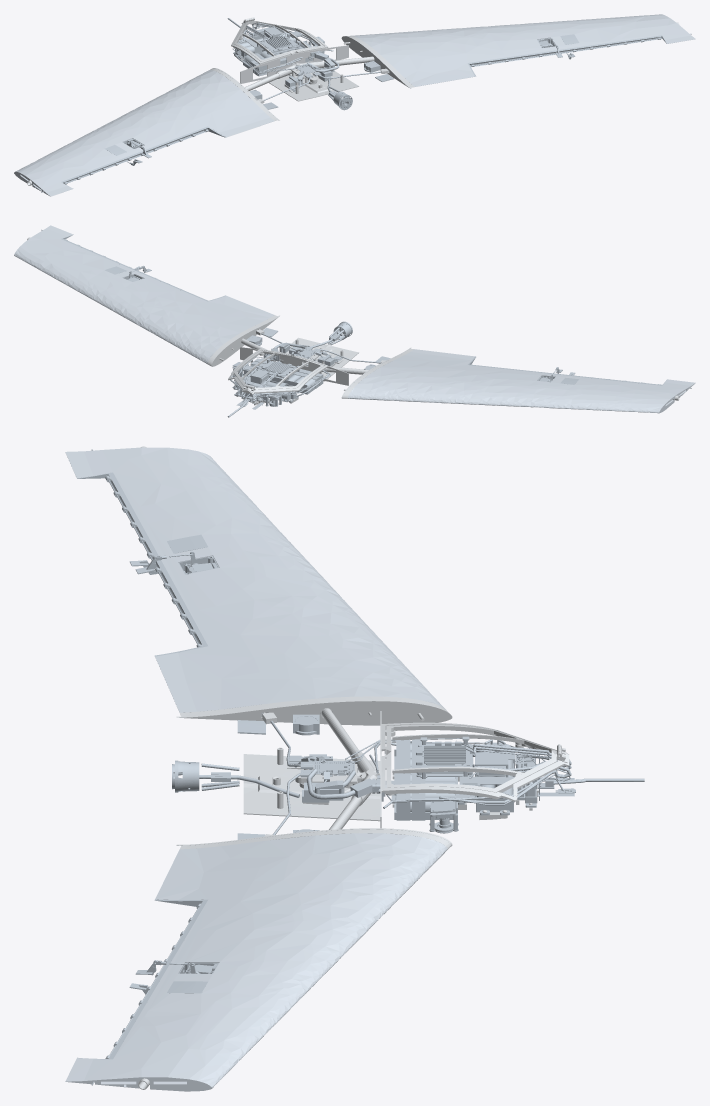
The model's file is next_inside.glb.
The picture shows the model from 3 angles, top to bottom: view 1: azimuth 30°, elevation 25°; view 2: azimuth 150°, elevation 25°; view 3: azimuth 270°, elevation 25°; orthographic projection. The views are drawn at different scales.
Parts seen in each view (by area): view 1: x_foam__foam_core_L, x_foam__foam_core_R, x_structure__keel_rear, x_structure__bay_bulkhead, x_structure__root_rib_R, x_structure__hatch_frame, x_structure__coaming, x_structure__root_rib_L, x_controls__hinge_strip_3_R, x_controls__hinge_strip_2_R, x_controls__hinge_strip_3_L, x_controls__hinge_strip_1_R; view 2: x_foam__foam_core_L, x_foam__foam_core_R, x_structure__root_rib_R, x_structure__hatch_frame, x_structure__keel_rear, x_structure__coaming, x_structure__bay_bulkhead, x_structure__root_rib_L; view 3: x_foam__foam_core_R, x_foam__foam_core_L, x_structure__root_rib_L, x_structure__keel_rear, x_structure__hatch_frame, x_structure__coaming, x_power__main_pack_straps, x_structure__root_rib_R.
Part boxes in pixels (bbox=[...]): x_foam__foam_core_L: bbox=[14, 70, 274, 196]; x_foam__foam_core_R: bbox=[351, 14, 695, 86]; x_structure__keel_rear: bbox=[269, 67, 358, 101]; x_structure__bay_bulkhead: bbox=[240, 45, 348, 83]; x_structure__root_rib_R: bbox=[341, 35, 414, 88]; x_structure__hatch_frame: bbox=[234, 17, 324, 61]; x_structure__coaming: bbox=[231, 17, 328, 64]; x_structure__root_rib_L: bbox=[210, 68, 279, 120]; x_controls__hinge_strip_3_R: bbox=[467, 54, 531, 76]; x_controls__hinge_strip_2_R: bbox=[531, 44, 599, 58]; x_controls__hinge_strip_3_L: bbox=[160, 126, 226, 148]; x_controls__hinge_strip_1_R: bbox=[599, 35, 666, 47]; x_foam__foam_core_L: bbox=[347, 349, 695, 413]; x_foam__foam_core_R: bbox=[14, 225, 274, 364]; x_structure__root_rib_R: bbox=[207, 315, 279, 366]; x_structure__hatch_frame: bbox=[234, 350, 324, 390]; x_structure__keel_rear: bbox=[276, 337, 358, 381]; x_structure__coaming: bbox=[228, 349, 328, 394]; x_structure__bay_bulkhead: bbox=[240, 347, 348, 385]; x_structure__root_rib_L: bbox=[341, 347, 414, 398]; x_foam__foam_core_R: bbox=[65, 833, 447, 1091]; x_foam__foam_core_L: bbox=[65, 447, 445, 716]; x_structure__root_rib_L: bbox=[176, 696, 452, 725]; x_structure__keel_rear: bbox=[243, 747, 380, 821]; x_structure__hatch_frame: bbox=[384, 724, 561, 792]; x_structure__coaming: bbox=[381, 722, 569, 801]; x_power__main_pack_straps: bbox=[396, 739, 425, 820]; x_structure__root_rib_R: bbox=[176, 828, 452, 849].
Bounding box in the file's own units: 1.8 × 0.063 × 0.6933.
